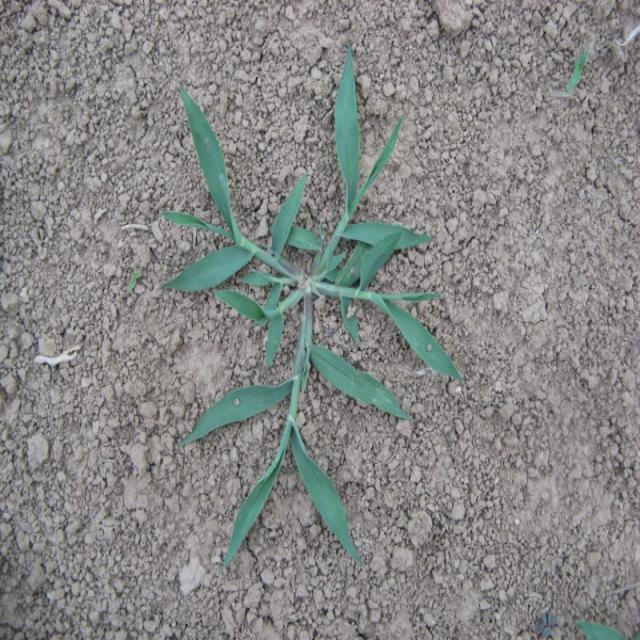bg: (156, 43, 460, 558)
